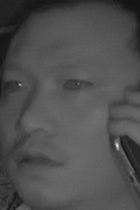eye: (60, 73, 93, 94), (3, 76, 30, 95)
mouth: (12, 142, 66, 177)
